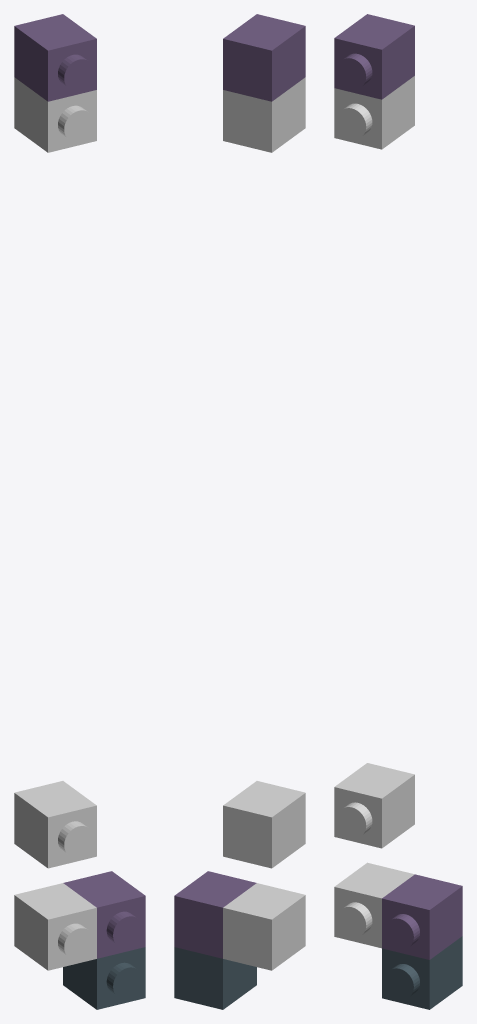
The model's file is current.glb.
The picture shows the model from 3 angles, left to right: view 1: azimuth 30°, elevation 25°; view 2: azimuth 150°, elevation 25°; view 3: azimuth 330°, elevation 25°; orthographic projection. The views are drawn at different scales.
Parts seen in each view (by area): view 1: world; view 2: world; view 3: world.
Part boxes in pixels (x1,y1,x2,y2): world: [14, 14, 145, 1009]; world: [174, 14, 305, 1009]; world: [334, 14, 462, 1009].
Bounding box in the file's own units: 16 × 152 × 11.4.
